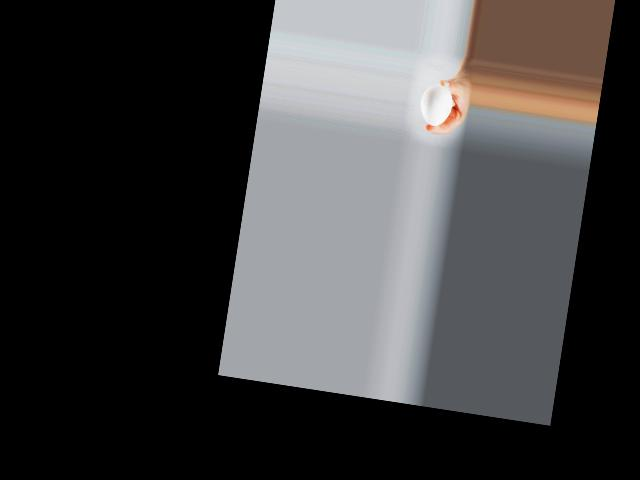egg: (418, 83, 455, 128)
